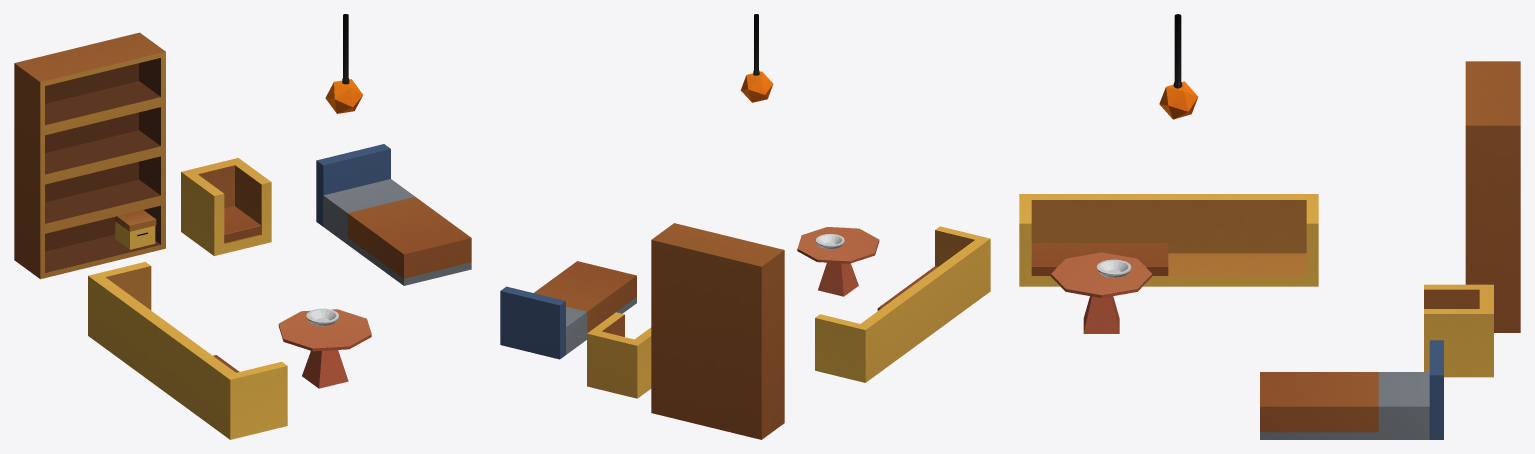
The model's file is Udo_House_In.fbx.
The picture shows the model from 3 angles, left to right: view 1: azimuth 30°, elevation 25°; view 2: azimuth 150°, elevation 25°; view 3: azimuth 270°, elevation 25°; orthographic projection. The views are drawn at different scales.
Visible parts, largest first — view 1: Udo_Shelf, Udo_Sofa, Udo_Bed, Udo_Chair, Udo_Table, Udo_Box, Udo_Light, Udo_Cushion, Udo_Dish; view 2: Udo_Shelf, Udo_Sofa, Udo_Bed, Udo_Chair, Udo_Table, Udo_Light; view 3: Udo_Sofa, Udo_Shelf, Udo_Bed, Udo_Chair, Udo_Table, Udo_Cushion_Long, Udo_Light, Udo_Dish.
Boxes of the visible parts, box(x1,y1,x2,y2) form: Udo_Shelf: box(14, 32, 165, 279); Udo_Sofa: box(88, 261, 287, 439); Udo_Bed: box(316, 144, 471, 285); Udo_Chair: box(181, 158, 271, 255); Udo_Table: box(278, 309, 371, 388); Udo_Box: box(114, 210, 156, 249); Udo_Light: box(325, 14, 362, 113); Udo_Cushion: box(224, 206, 260, 242); Udo_Dish: box(306, 308, 338, 326); Udo_Shelf: box(651, 223, 784, 439); Udo_Sofa: box(815, 226, 990, 382); Udo_Bed: box(500, 261, 636, 359); Udo_Chair: box(587, 312, 651, 398); Udo_Table: box(797, 227, 879, 296); Udo_Light: box(740, 14, 773, 102); Udo_Sofa: box(1019, 194, 1318, 286); Udo_Shelf: box(1465, 61, 1520, 332); Udo_Bed: box(1260, 340, 1443, 439); Udo_Chair: box(1424, 284, 1493, 377); Udo_Table: box(1051, 252, 1152, 333); Udo_Cushion_Long: box(1031, 243, 1168, 275); Udo_Light: box(1159, 14, 1198, 119); Udo_Dish: box(1096, 259, 1131, 278).
Bounding box in the file's own units: 788 × 684 × 914.
Materials: 1 (1 with a texture image).
